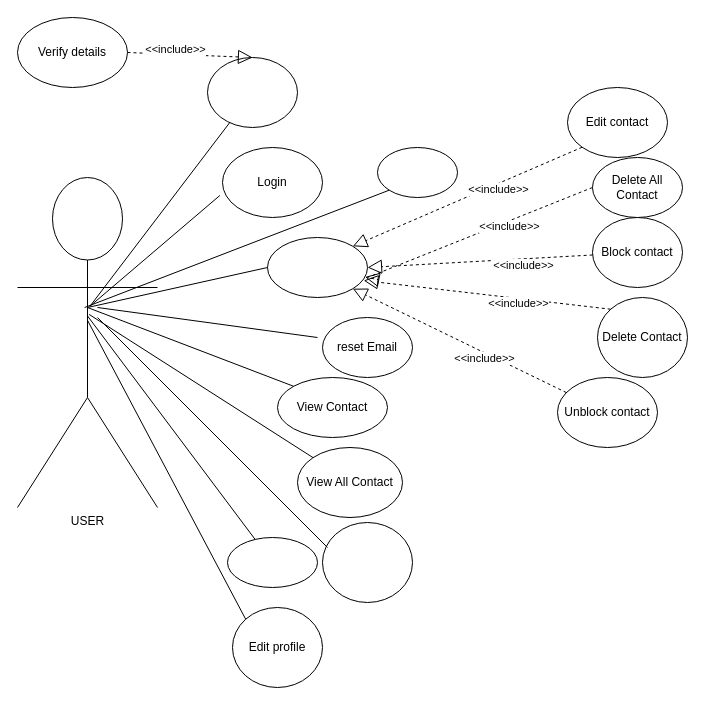
The diagram is 705 pixels wide and 705 high, and some of its shapes have lost their labels. The centre of each missing label's shape, as x and y in pixels:
"Add Contact" goes at [317,267].
"Delete Account" goes at [417,172].
"Register" goes at [252,92].
"reset password" goes at [367,562].
"view Profile" goes at [272,562].
